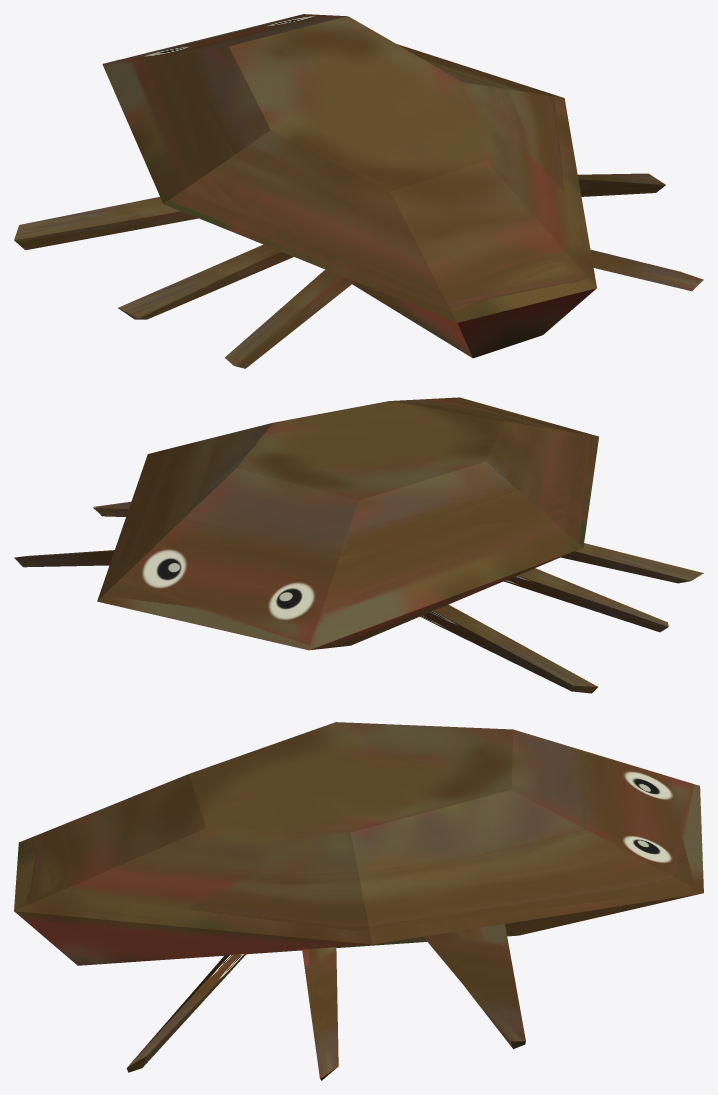
The model's file is bug.glb.
3 renders of one model, top to bottom at view 1: azimuth 30°, elevation 25°; view 2: azimuth 150°, elevation 25°; view 3: azimuth 270°, elevation 25°, orthographic. The views are drawn at different scales.
Parts seen in each view (by area): view 1: Cube; view 2: Cube; view 3: Cube.
Boxes of the visible parts, left/top/right/bottom form: Cube: left=14, top=14, right=703, bottom=368; Cube: left=14, top=397, right=703, bottom=693; Cube: left=14, top=722, right=703, bottom=1080.
Bounding box in the file's own units: 3.66 × 1.13 × 3.58.
Materials: 1 (1 with a texture image).
